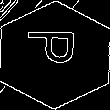P_E: (25, 36, 85, 74)
